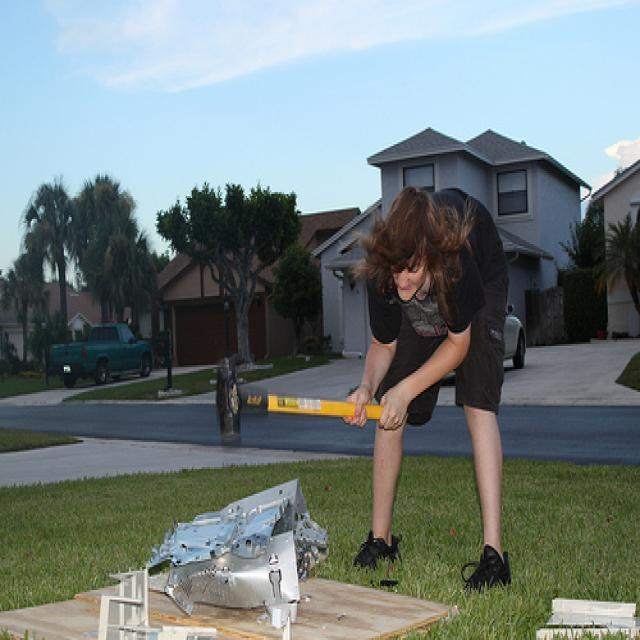hammer: (210, 349, 405, 454)
